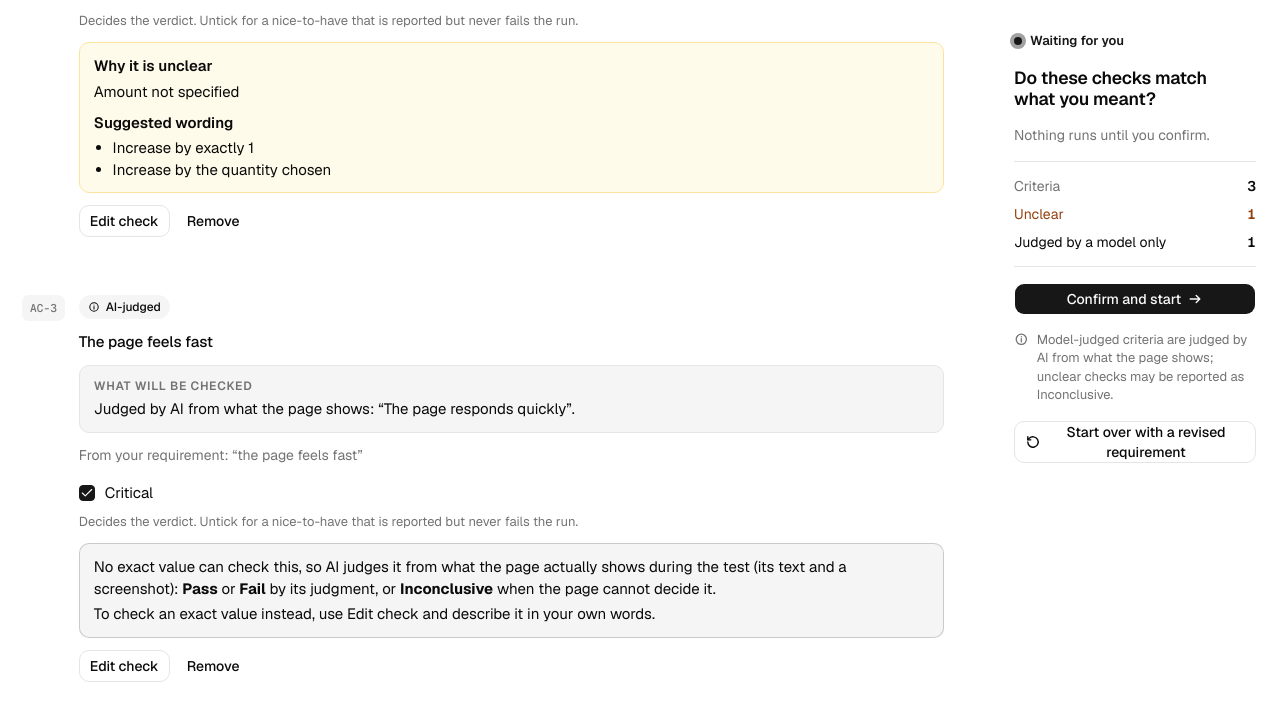
it: CriteriaReview › asks before removing a criterion, and keeps it when the user backs out
(page scrolled)
Click the button with aria-label "remove AC-3": click(213, 666) [176, 650, 250, 682]
(page scrolled)
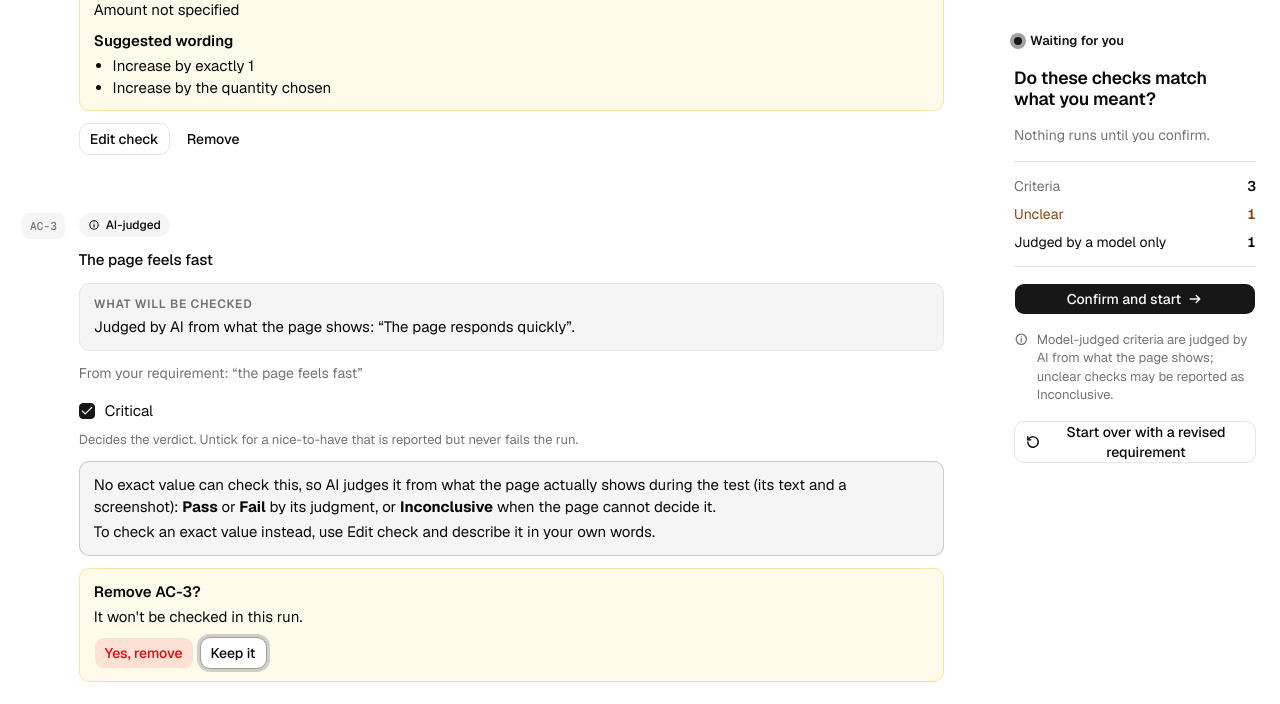
Click the button "Keep it": click(233, 654) [200, 638, 267, 670]
(page scrolled)
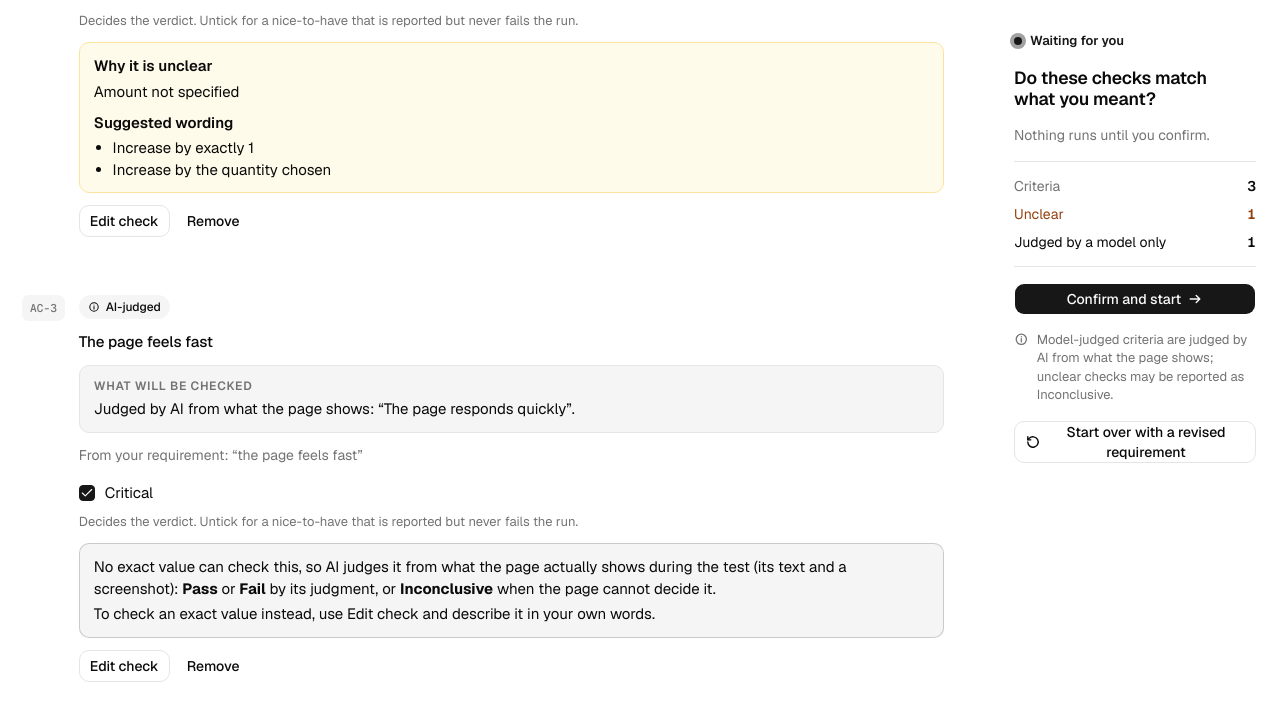
Now the text "Remove AC-3?" is gone
